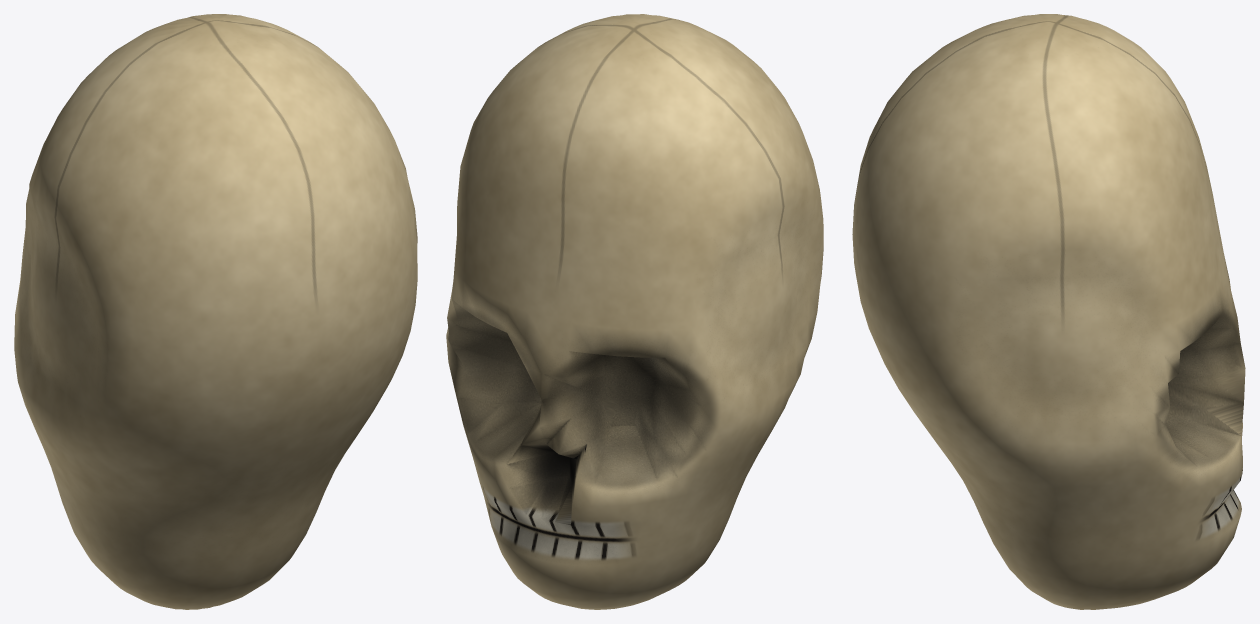
The model's file is TorchSkull_01.gltf.
3 renders of one model, left to right at view 1: azimuth 30°, elevation 25°; view 2: azimuth 150°, elevation 25°; view 3: azimuth 270°, elevation 25°, orthographic. The views are drawn at different scales.
Visible parts, largest first — view 1: TorchSkull_01; view 2: TorchSkull_01; view 3: TorchSkull_01.
Boxes of the visible parts, box(x1,y1,x2,y2) form: TorchSkull_01: box(14, 14, 417, 609); TorchSkull_01: box(446, 14, 823, 609); TorchSkull_01: box(852, 14, 1245, 609).
Size of the model in its own units: 0.0735 by 0.13 by 0.0799.
